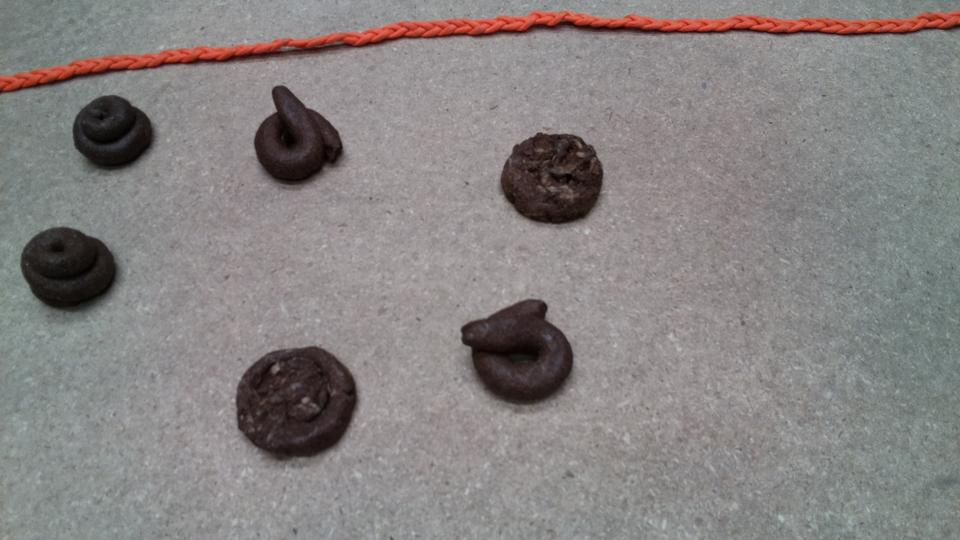poop: (231, 341, 363, 465), (458, 294, 575, 409), (498, 129, 610, 229), (252, 83, 349, 189), (18, 222, 122, 314), (70, 92, 156, 173)
rope: (1, 6, 959, 98)
